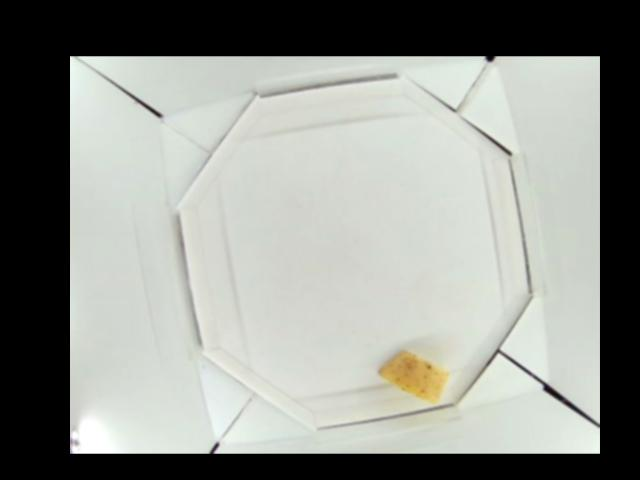Potato: (378, 348, 450, 404)
